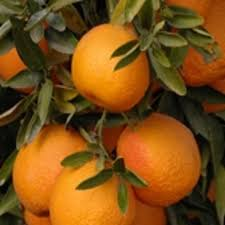orange: (119, 113, 205, 208), (73, 26, 149, 112)
